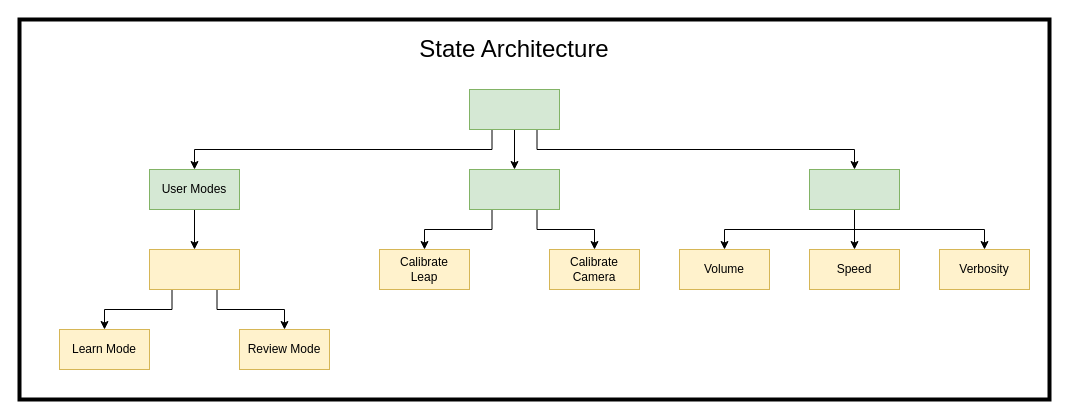
The diagram is 1068 pixels wide and 418 high, and some of its shapes have lost their labels. The shapes that lost their labels are listed below. From the top down, each one's centre as x and y in pixels, then its label:
At (x=514, y=109): "Main Menu".
At (x=514, y=189): "Calibration".
At (x=854, y=189): "Settings".
At (x=194, y=269): "Setup".
